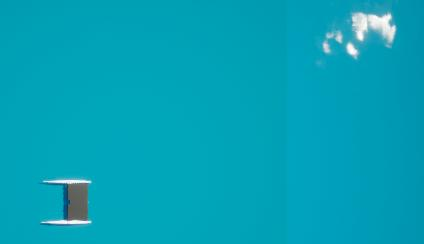boat: (40, 178, 92, 229)
drone: (68, 184, 87, 219)
land_base: (306, 6, 416, 74)
